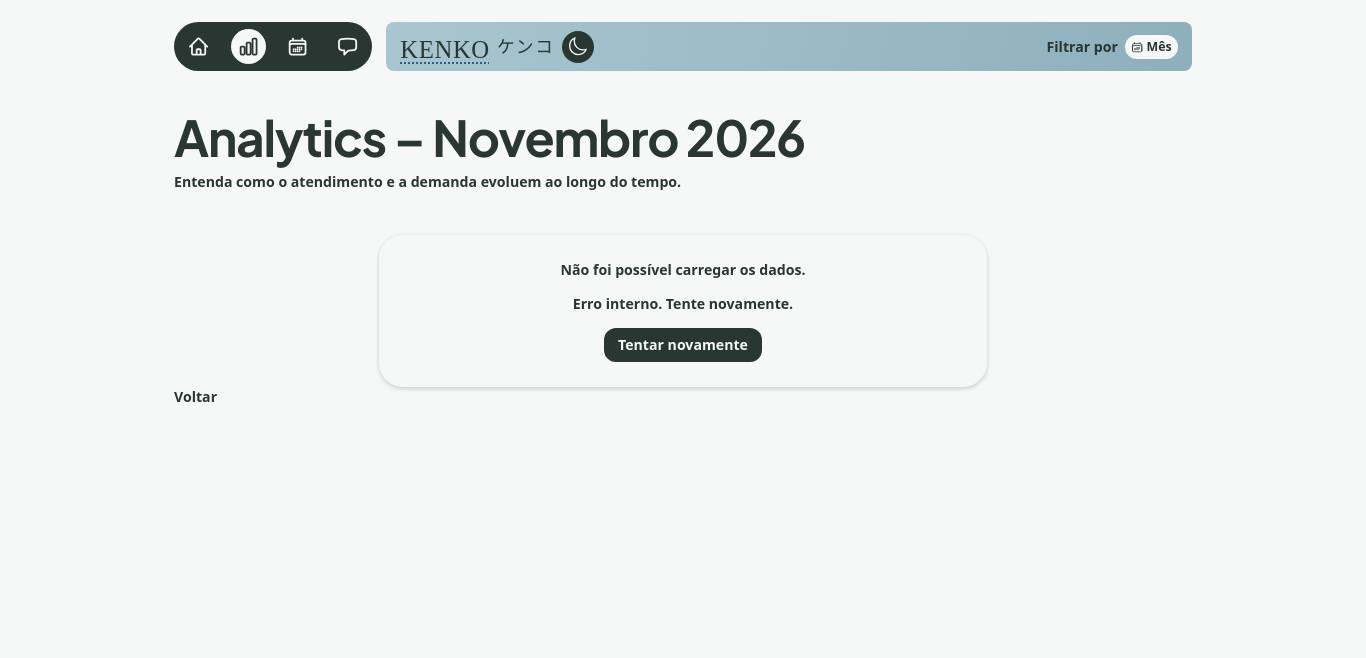
Scenario: mostra o erro da API e busca de novo pelo botão
Expected: the message shows "Não foi possível carregar os dados.", left=560, top=260, right=805, bottom=278
Click the button "Tentar novamente" at (683,345), box left=604, top=328, right=762, bottom=362
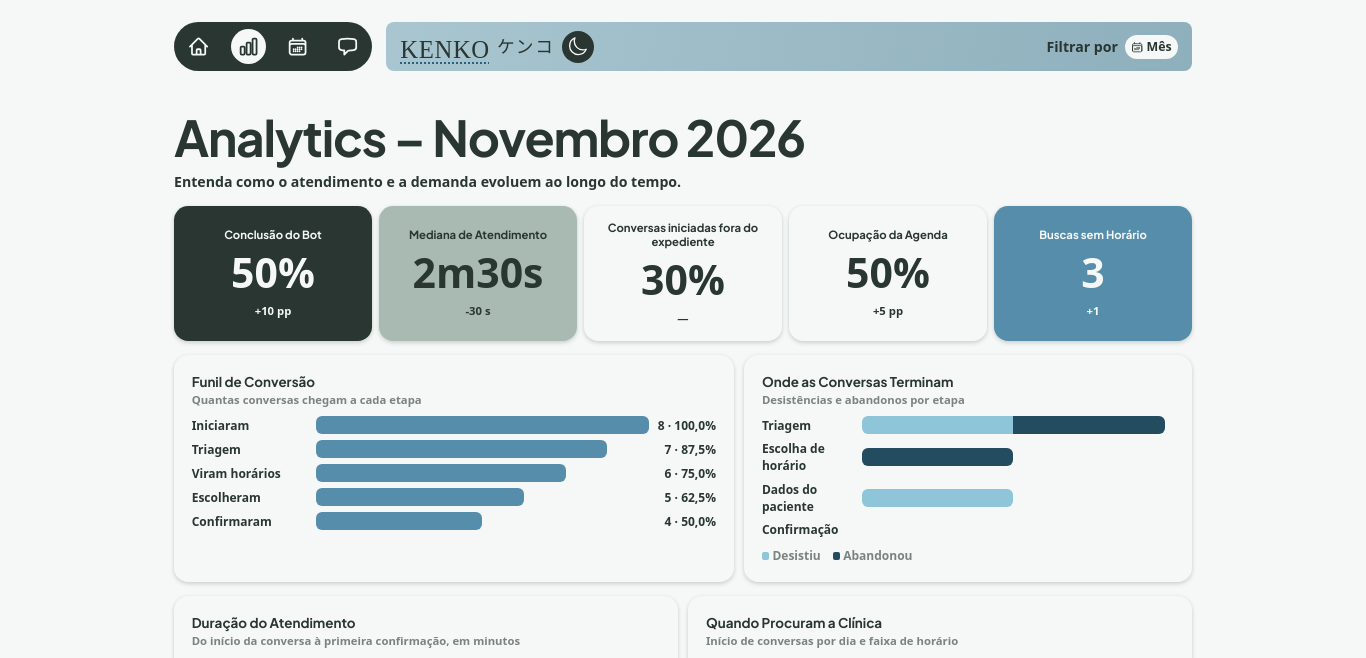
Expected: the element named "Indicadores do período" is shown, left=174, top=206, right=1192, bottom=341
